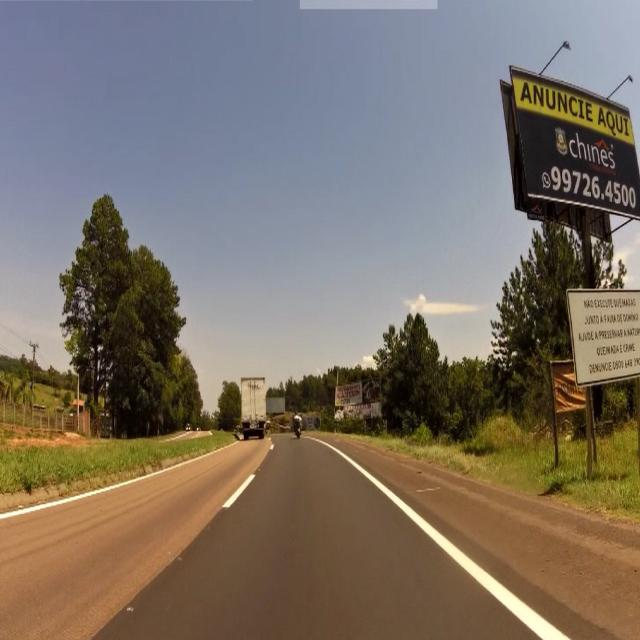E-5: (568, 291, 640, 387)
